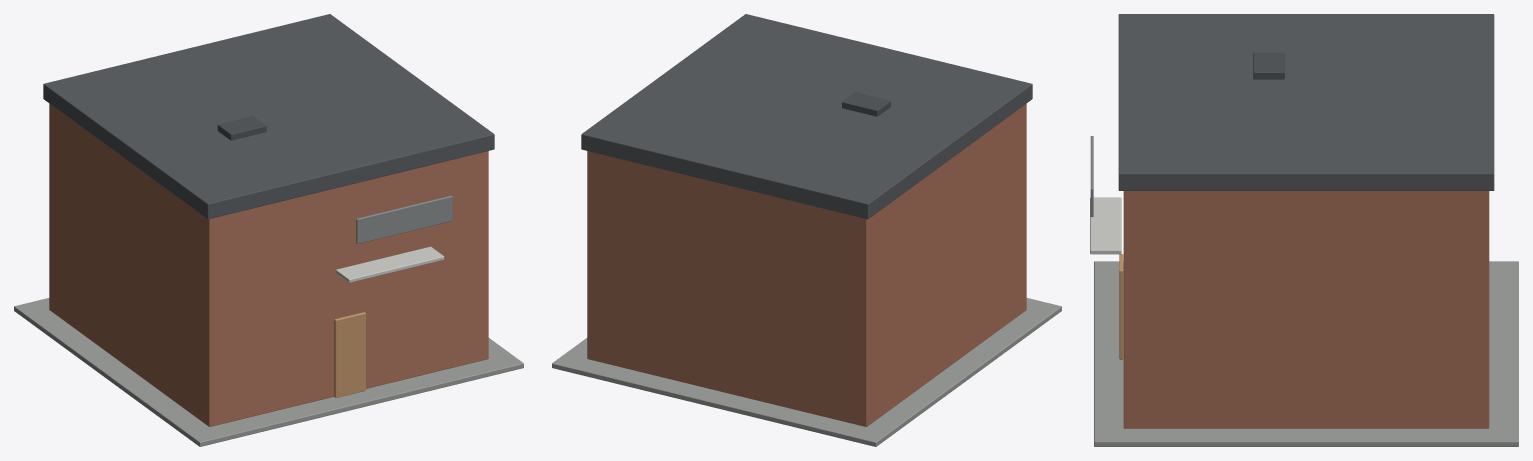
Rendered from Building_Residential_021.glb.
3 renders of one model, left to right at view 1: azimuth 30°, elevation 25°; view 2: azimuth 150°, elevation 25°; view 3: azimuth 270°, elevation 25°, orthographic. The views are drawn at different scales.
Parts seen in each view (by area): view 1: Building_Residential_021; view 2: Building_Residential_021; view 3: Building_Residential_021.
Boxes of the visible parts, left/top/right/bottom form: Building_Residential_021: left=14, top=14, right=523, bottom=446; Building_Residential_021: left=552, top=14, right=1061, bottom=446; Building_Residential_021: left=1090, top=14, right=1518, bottom=446.
Size of the model in its own units: 10.87 by 7.59 by 10.9.
